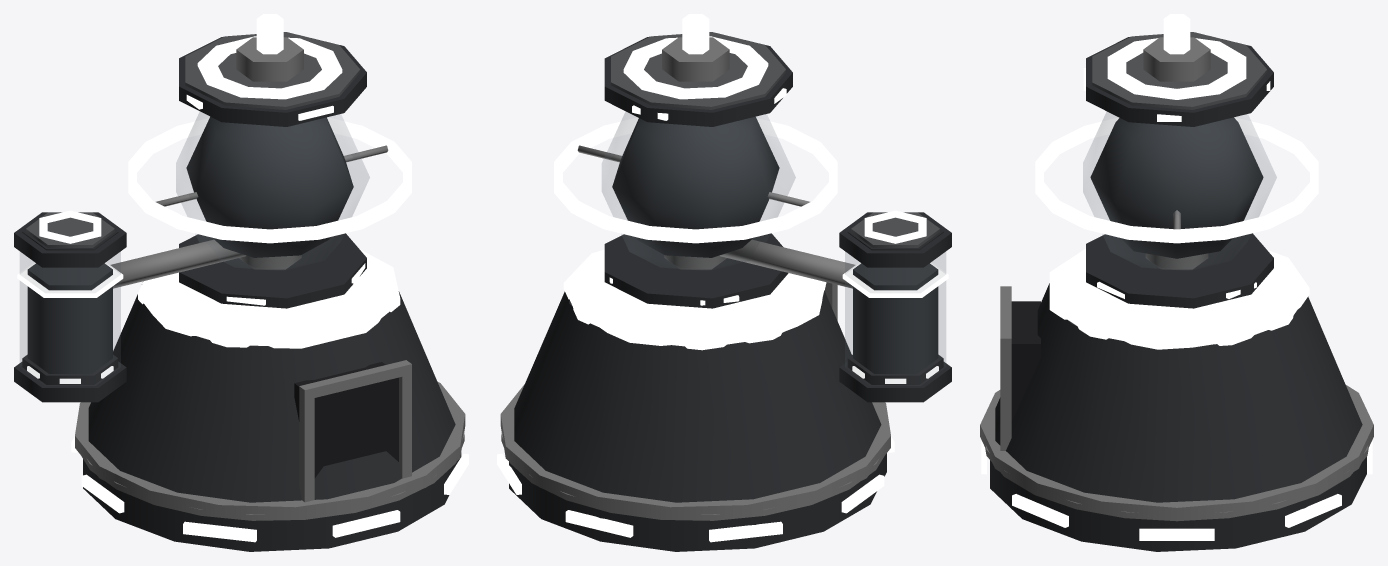
Rendered from Skin_Reactor_T1.glb.
The picture shows the model from 3 angles, left to right: view 1: azimuth 30°, elevation 25°; view 2: azimuth 150°, elevation 25°; view 3: azimuth 270°, elevation 25°; orthographic projection.
Parts seen in each view (by area): view 1: Skin_Reactor_T1; view 2: Skin_Reactor_T1; view 3: Skin_Reactor_T1.
Boxes of the visible parts, bbox=[...] form: Skin_Reactor_T1: bbox=[14, 14, 468, 551]; Skin_Reactor_T1: bbox=[497, 14, 951, 551]; Skin_Reactor_T1: bbox=[980, 14, 1373, 551].
Bounding box in the file's own units: 4.23 × 4.44 × 3.5.
